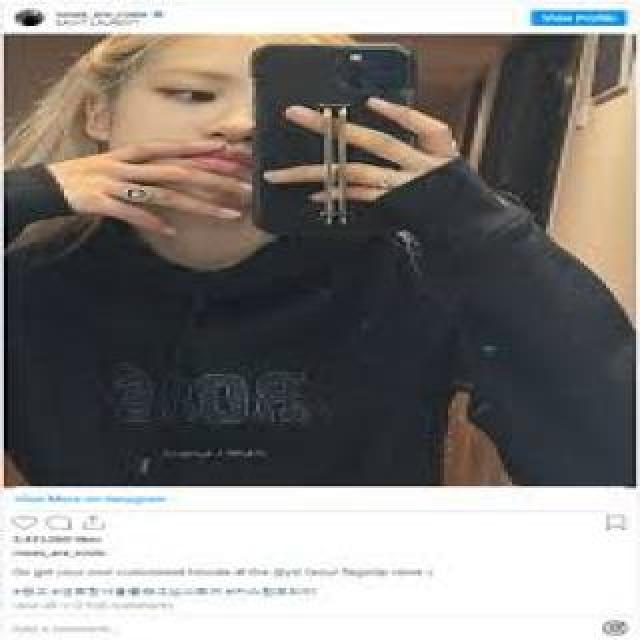smart phone: (240, 40, 443, 255)
